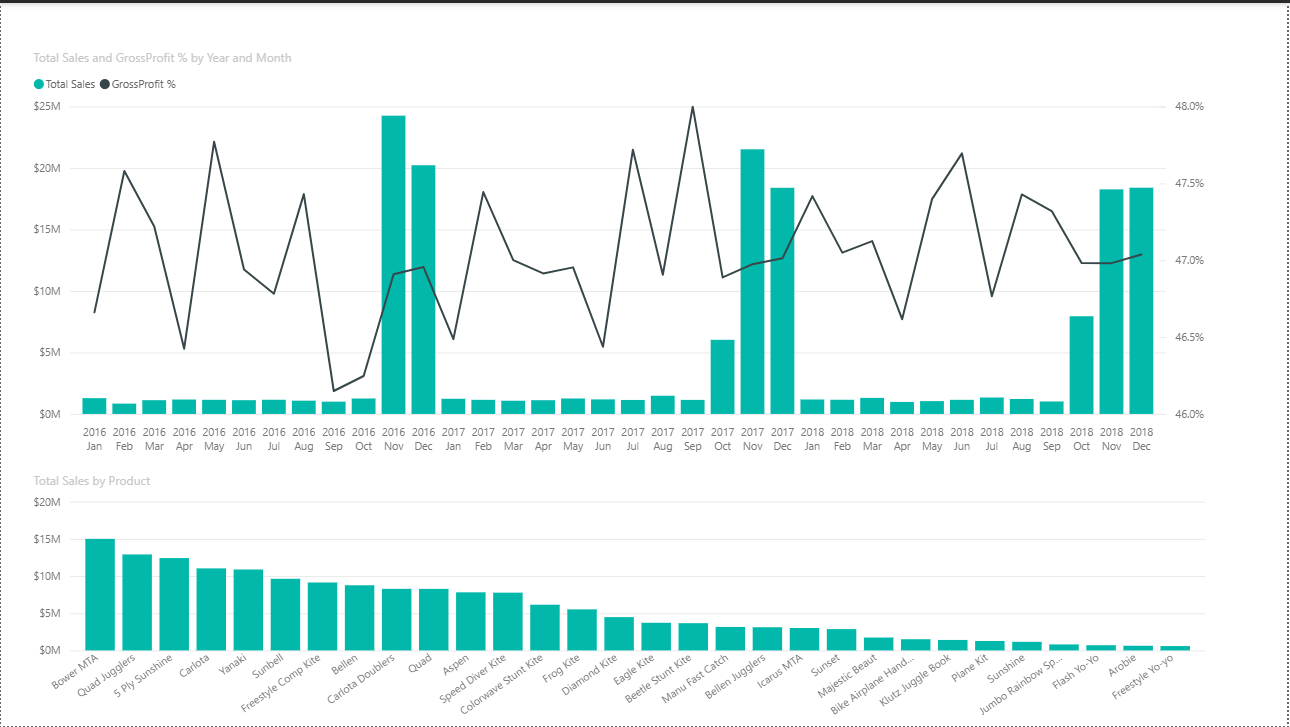

The dashboard page shown, as its layout file describes it:
{"tool":"powerbi","page":{"name":"GP %","canvas":[1280,720],"ordinal":0},"visuals":[{"type":"lineClusteredColumnComboChart","fields":{"Category":["dDate.Date Hierarchy.Year","dDate.Date Hierarchy.Month"],"Y":["fSales.Total Sales"],"Y2":["fSales.GrossProfit %"]},"box":[27.1,46.2,1175.6,409.6],"z":0},{"type":"clusteredColumnChart","fields":{"Category":["dProducts.Product"],"Y":["fSales.Total Sales"]},"box":[27,466,1176,254],"z":1000}]}

Visuals, with their boxes in screenshot pixels (x1, y1, x2, y2), scaled from the page's 1280x720 canvas onto the 1290x727 screenshot:
lineClusteredColumnComboChart - dDate.Date Hierarchy.Year x dDate.Date Hierarchy.Month: (27, 47, 1212, 460)
clusteredColumnChart - dProducts.Product x fSales.Total Sales: (27, 471, 1212, 726)
